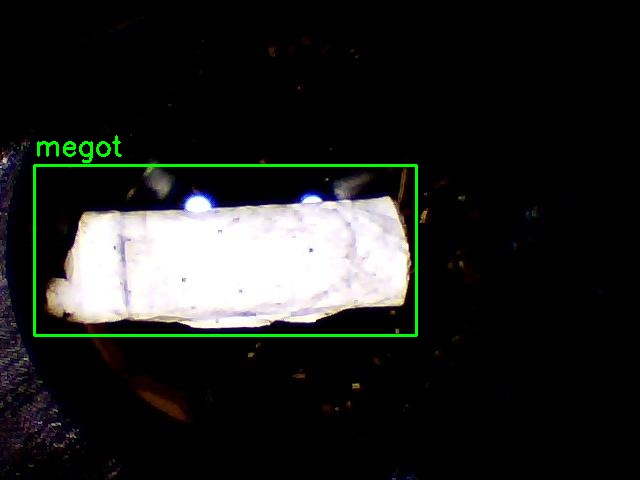megot: (34, 165, 416, 335)
